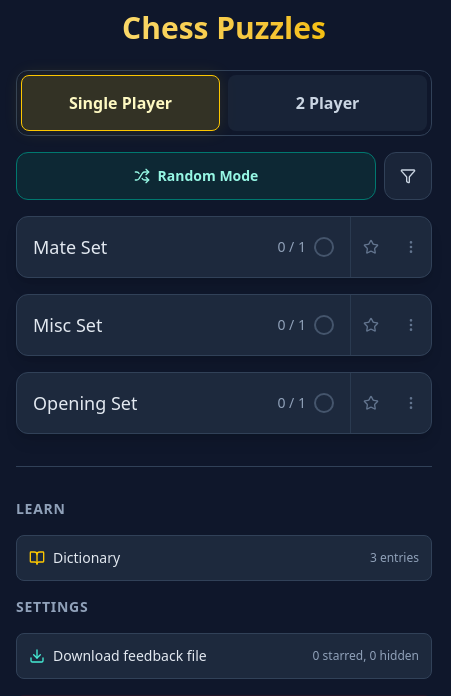
Test: App unit tests by area › Homepage › filters categories by puzzle type
The image size is (451, 696).
Expected: the button "mate set 0 / 1" is shown, left=17, top=217, right=350, bottom=277
Expected: the button "opening set 0 / 1" is shown, left=17, top=373, right=350, bottom=433
Step 1. Click the button with test id "category-filter-button" → (408, 176), box left=384, top=152, right=432, bottom=200
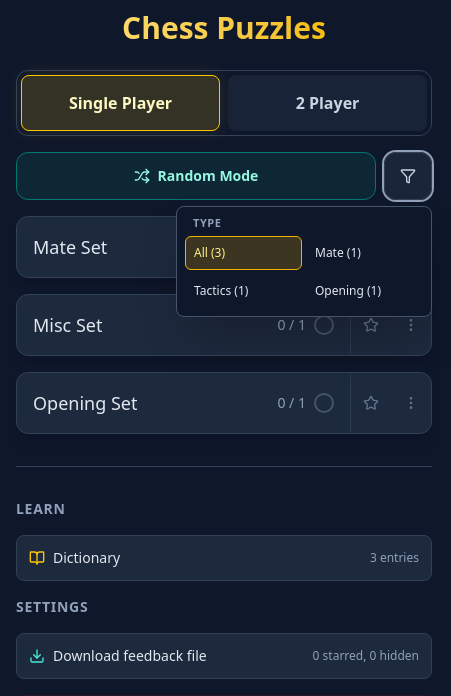
Now the menu item "Tactics (1)" is shown, box left=185, top=274, right=302, bottom=308
Step 2. Click the menu item "Mate (1)" → (364, 252), box left=306, top=236, right=423, bottom=270
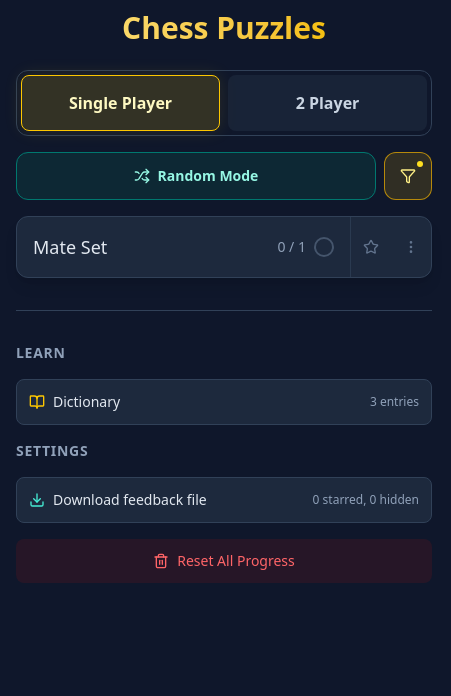
Now the button "opening set" is gone
Now the button "misc set" is gone
Now the menu with test id "category-type-filters" is gone
